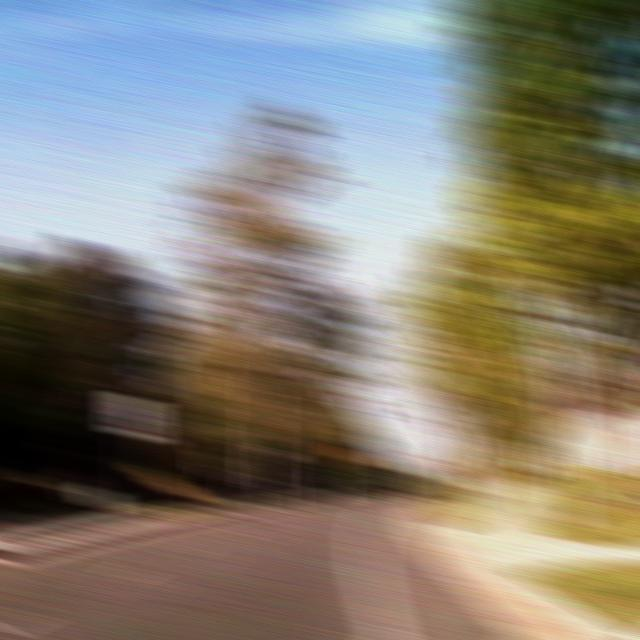speedLimit40: (111, 393, 156, 439)
